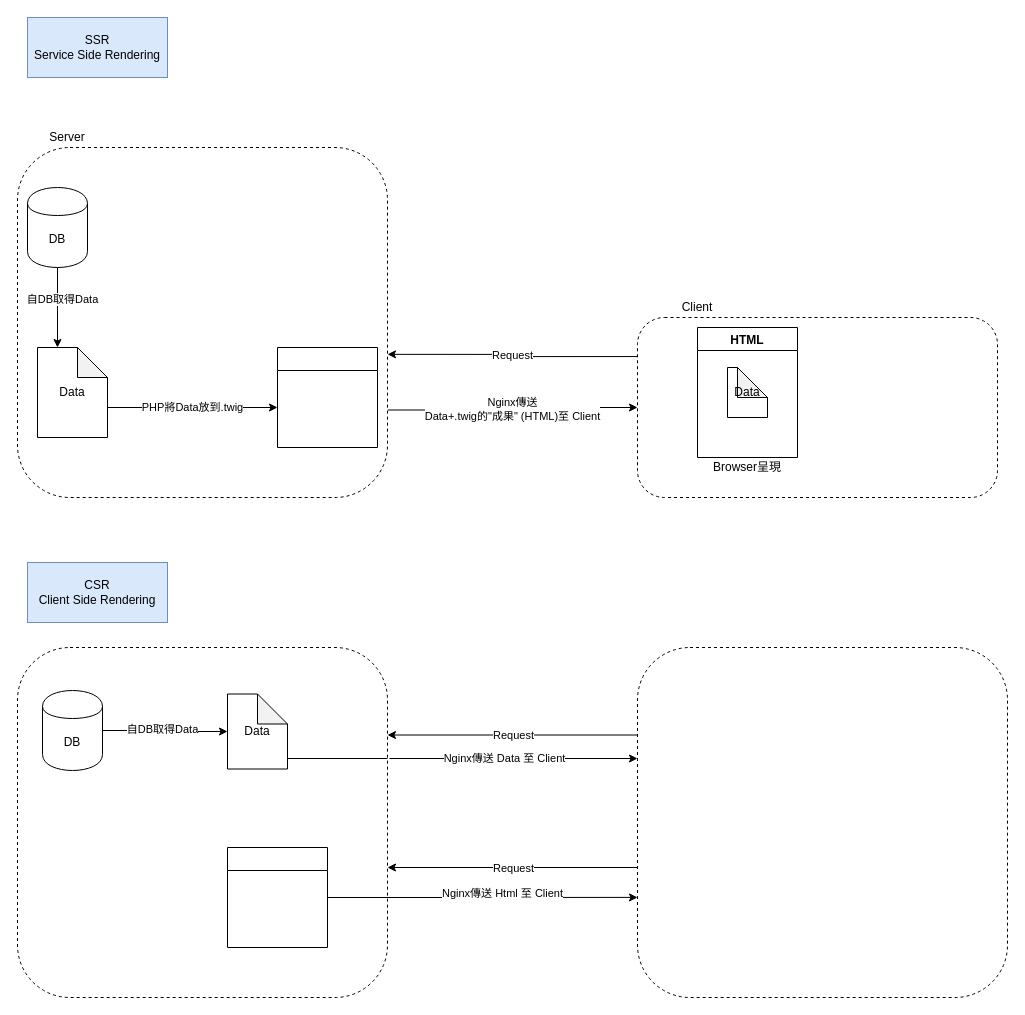
The diagram is 1025 pixels wide and 1015 high, and some of its shapes have lost their labels. The shapes that lost their labels are listed below. From the top down, each one's centre as x and y in pixels, then its label:
At [327,397]: ".Twig".
At [277,897]: ".Html".
